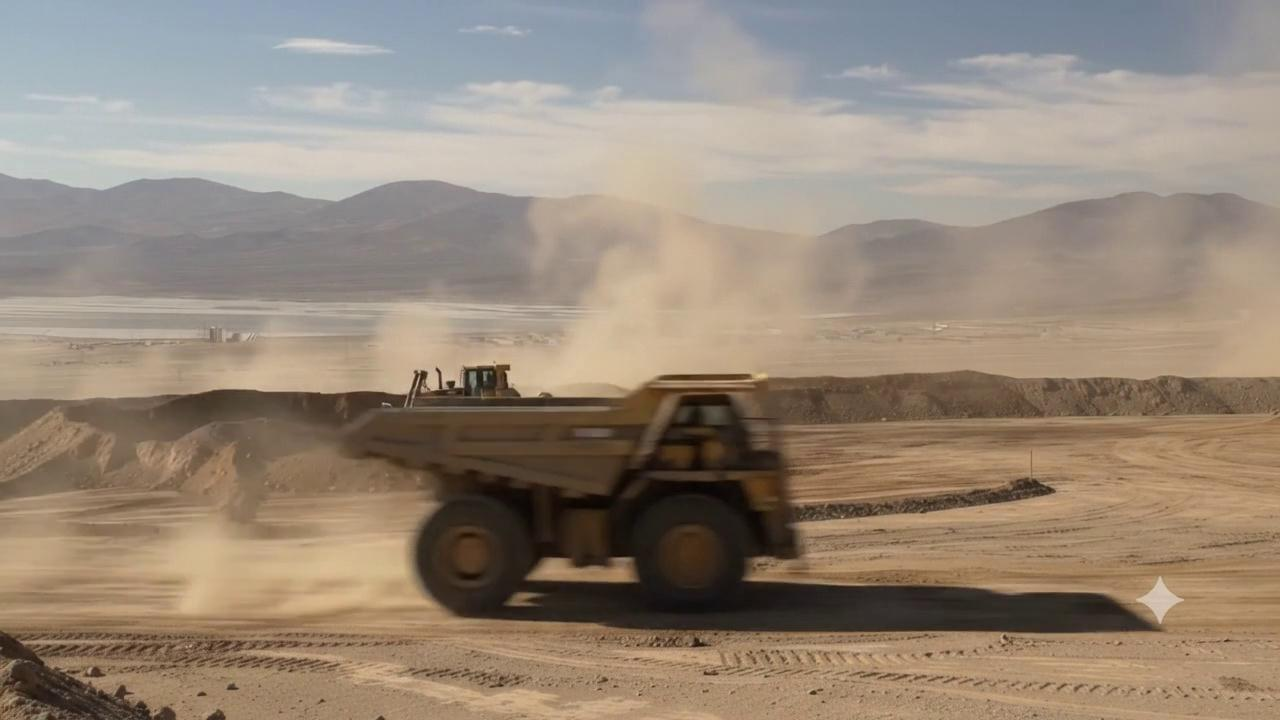CAEX: (341, 368, 1184, 632), (337, 371, 803, 616)
